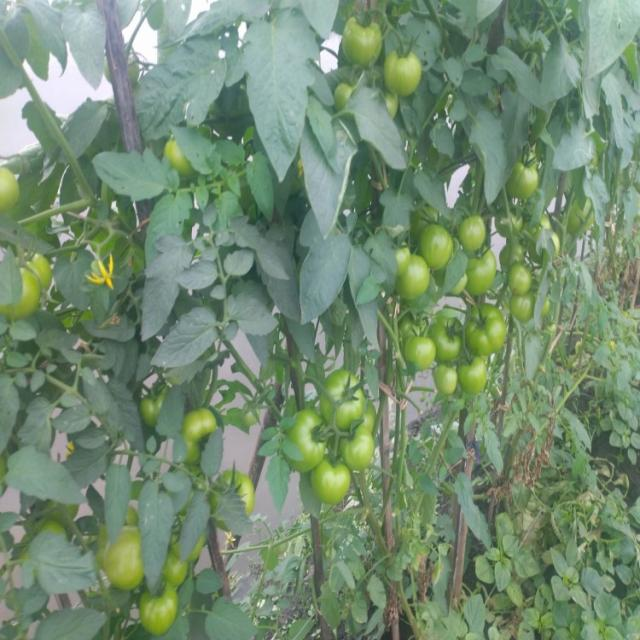tomato: (335, 11, 390, 70), (98, 524, 142, 592), (390, 46, 439, 107), (317, 374, 363, 433), (284, 413, 327, 472), (139, 592, 185, 640), (4, 266, 45, 319), (217, 472, 257, 524), (312, 461, 357, 504), (134, 383, 170, 435), (468, 310, 512, 351), (179, 411, 210, 465), (467, 246, 499, 296), (402, 261, 441, 302), (503, 159, 541, 199), (423, 221, 454, 269), (458, 215, 500, 250), (23, 253, 58, 293), (342, 431, 377, 467), (432, 315, 462, 357), (462, 359, 496, 395), (158, 558, 195, 590), (502, 236, 537, 269), (406, 339, 439, 373), (165, 139, 200, 171), (511, 286, 540, 324), (537, 232, 571, 261), (1, 164, 23, 208), (387, 246, 416, 277), (335, 81, 361, 113), (437, 365, 461, 396), (511, 261, 534, 290), (530, 214, 553, 240), (446, 267, 467, 295), (385, 93, 405, 122), (499, 210, 520, 237), (360, 402, 380, 428), (184, 539, 201, 555)
